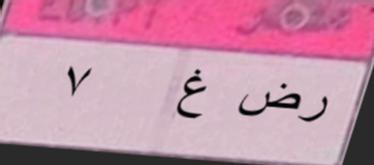7: (57, 60, 103, 106)
daad: (240, 83, 300, 118)
ghayn: (172, 61, 213, 120)
raa: (298, 90, 333, 132)
